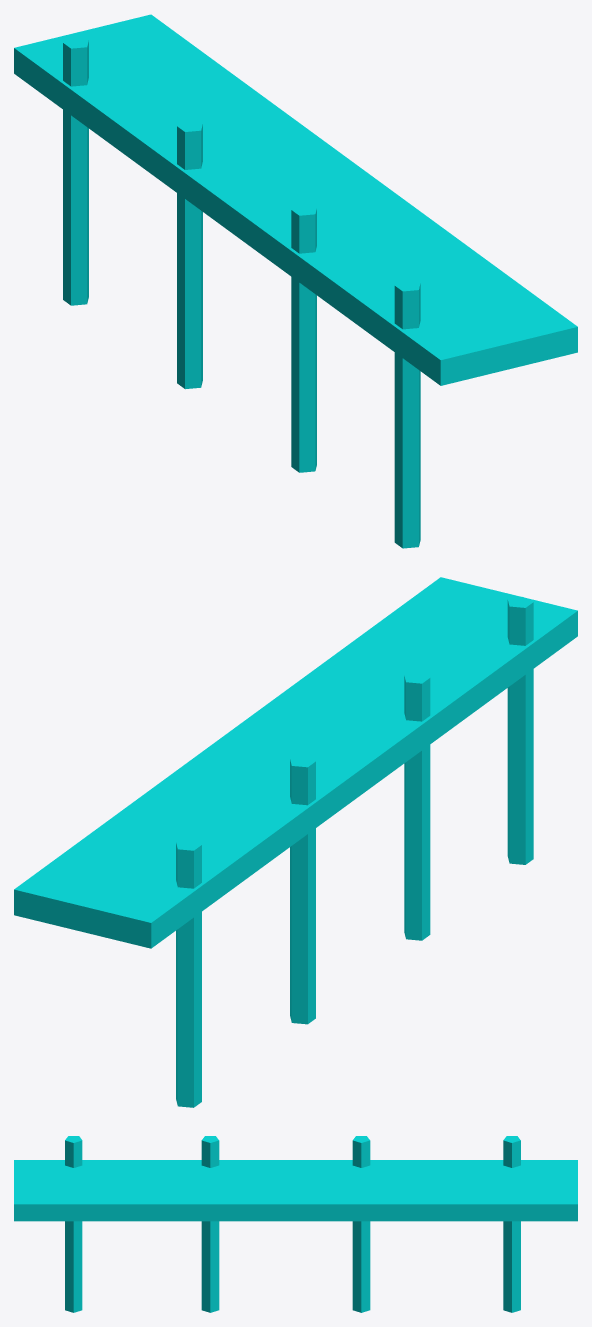
File: SM_Bld_Background_Dock_04_Collision.fbx
3 renders of one model, top to bottom at view 1: azimuth 30°, elevation 25°; view 2: azimuth 150°, elevation 25°; view 3: azimuth 270°, elevation 25°, orthographic. The views are drawn at different scales.
Visible parts, largest first — view 1: SM_Bld_Background_Dock_04_Collision; view 2: SM_Bld_Background_Dock_04_Collision; view 3: SM_Bld_Background_Dock_04_Collision.
Boxes of the visible parts, box(x1,y1,x2,y2) form: SM_Bld_Background_Dock_04_Collision: box(14, 14, 577, 548); SM_Bld_Background_Dock_04_Collision: box(14, 577, 577, 1107); SM_Bld_Background_Dock_04_Collision: box(14, 1136, 577, 1312).
Size of the model in its own units: 325 by 582 by 1750.
